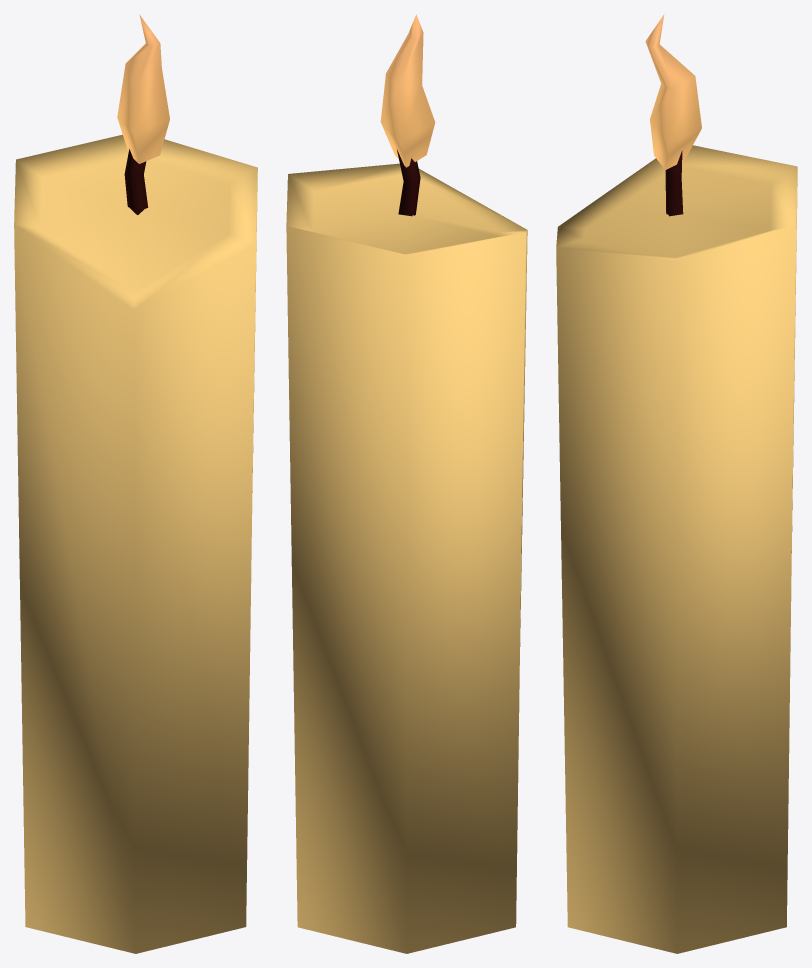
The model's file is HWN20_Candle_04.glb.
3 renders of one model, left to right at view 1: azimuth 30°, elevation 25°; view 2: azimuth 150°, elevation 25°; view 3: azimuth 270°, elevation 25°, orthographic.
Parts seen in each view (by area): view 1: HWN20_Candle_04; view 2: HWN20_Candle_04; view 3: HWN20_Candle_04.
Boxes of the visible parts, x1,y1,x2,y2 form: HWN20_Candle_04: [14, 14, 257, 953]; HWN20_Candle_04: [286, 14, 527, 953]; HWN20_Candle_04: [556, 14, 797, 953].
Size of what is drawn, in the model's own units: 0.1399 by 0.4923 by 0.1218.
Materials: 2 (2 with a texture image).
